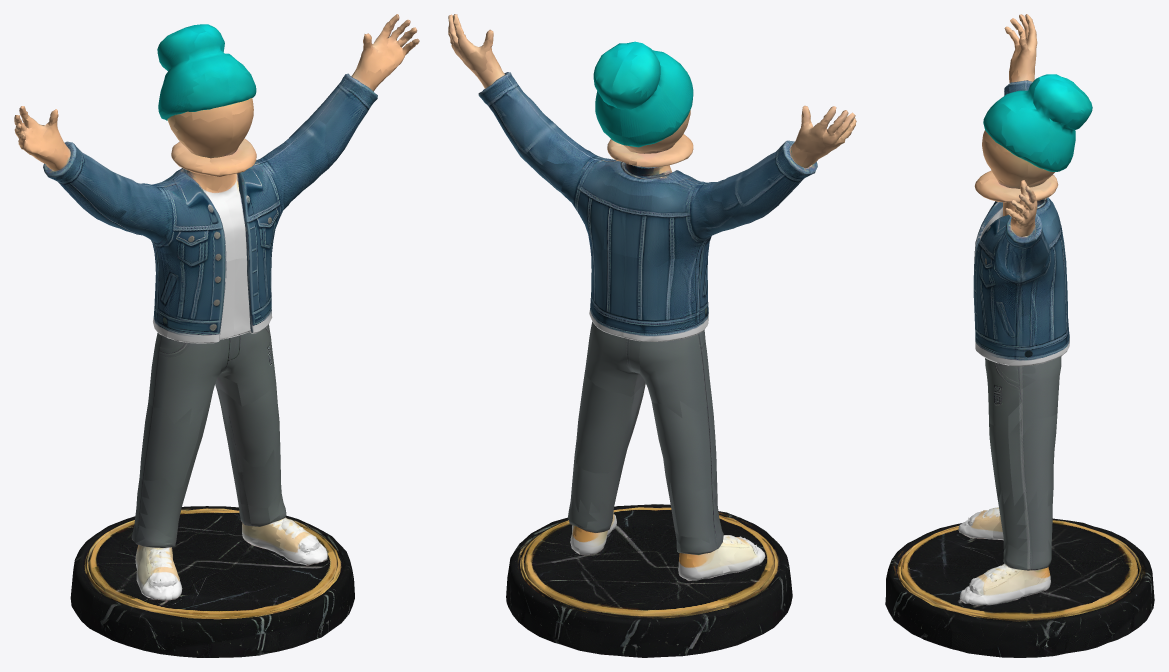
File: left-pawn.glb
3 views of the same model, side by side, from view 1: azimuth 30°, elevation 25°; view 2: azimuth 150°, elevation 25°; view 3: azimuth 270°, elevation 25° (orthographic). The views are drawn at different scales.
Bounding box in the file's own units: 0.75 × 1 × 0.4668.
Materials: 1 (1 with a texture image).
